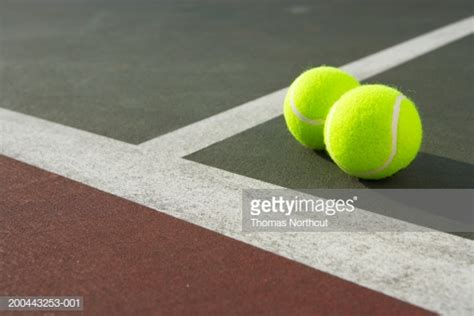tennis_ball: (323, 84, 422, 178), (282, 65, 361, 149)
